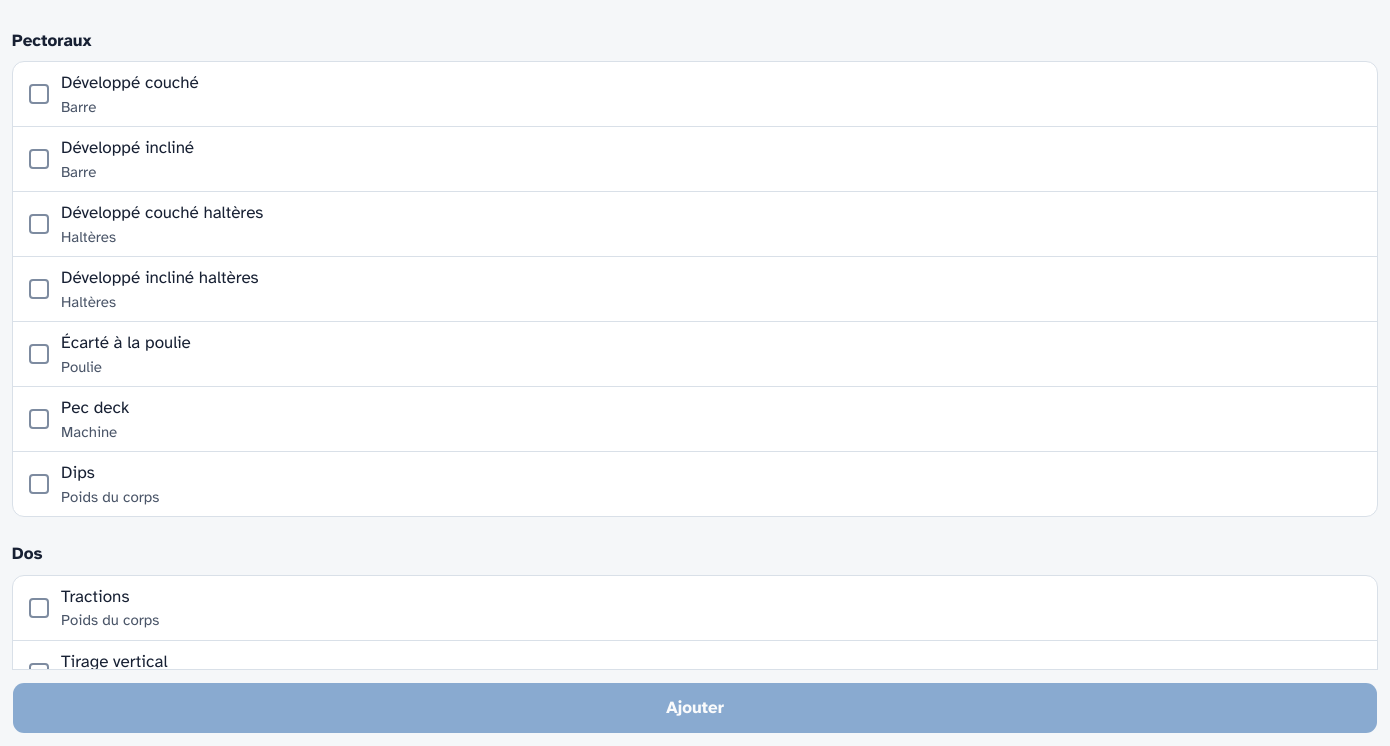
CatalogPicker (D16) › la sélection de 3 exercices envoie un seul lot avec leur matériel
Check: the button "Ajouter" is disabled, box [12,682,1378,734]
Click the checkbox labelled "Dips". click: (39, 484)
box: [29,474,49,494]
(page scrolled)
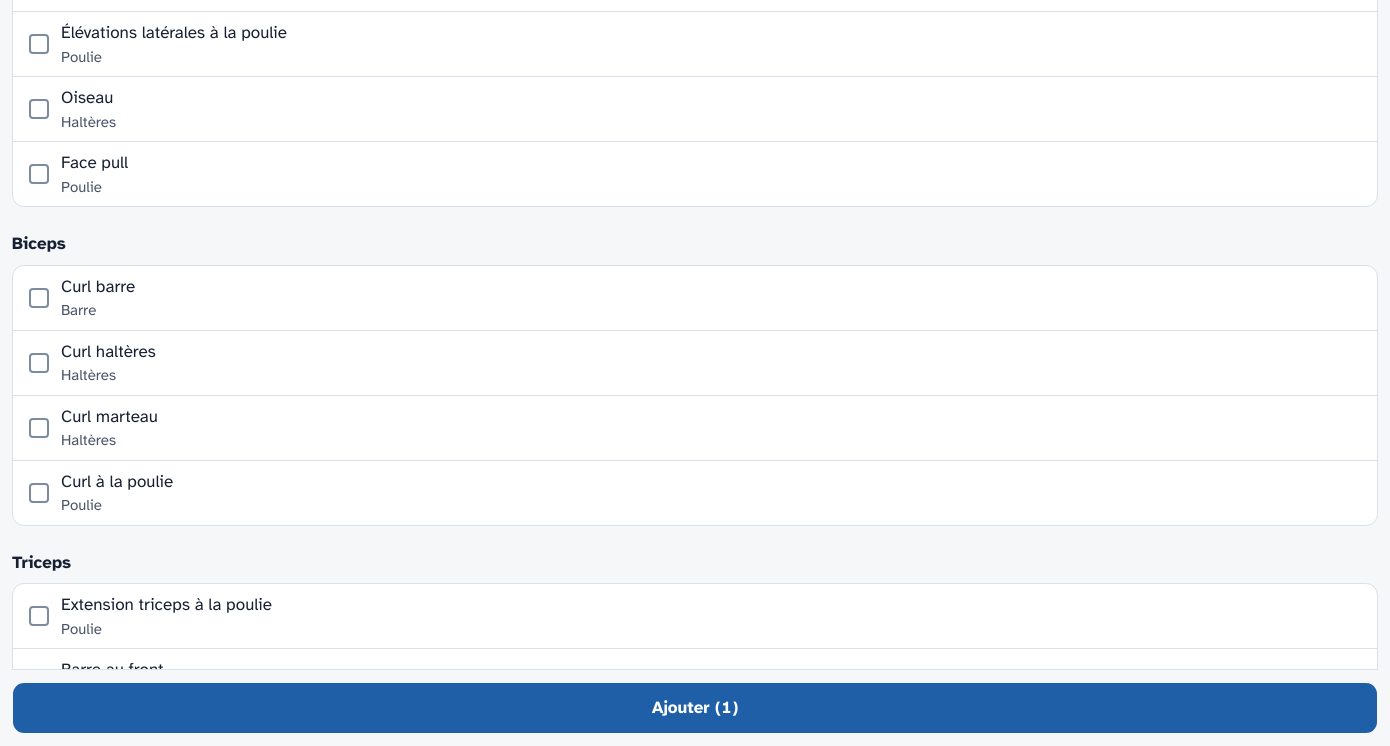
Click the checkbox labelled "Curl haltères". click: (39, 362)
box: [29,352,49,372]
(page scrolled)
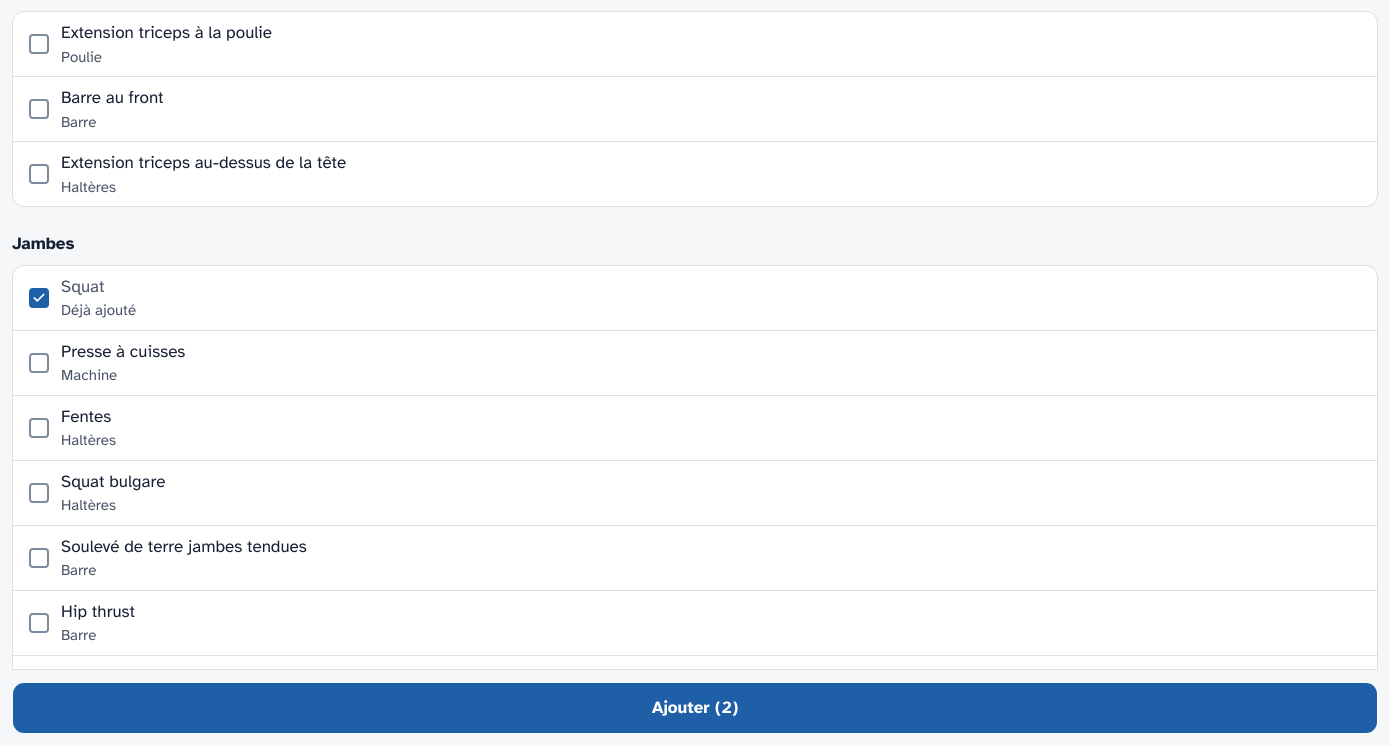
Click the checkbox labelled "Presse à cuisses". click: (39, 362)
box: [29,352,49,372]
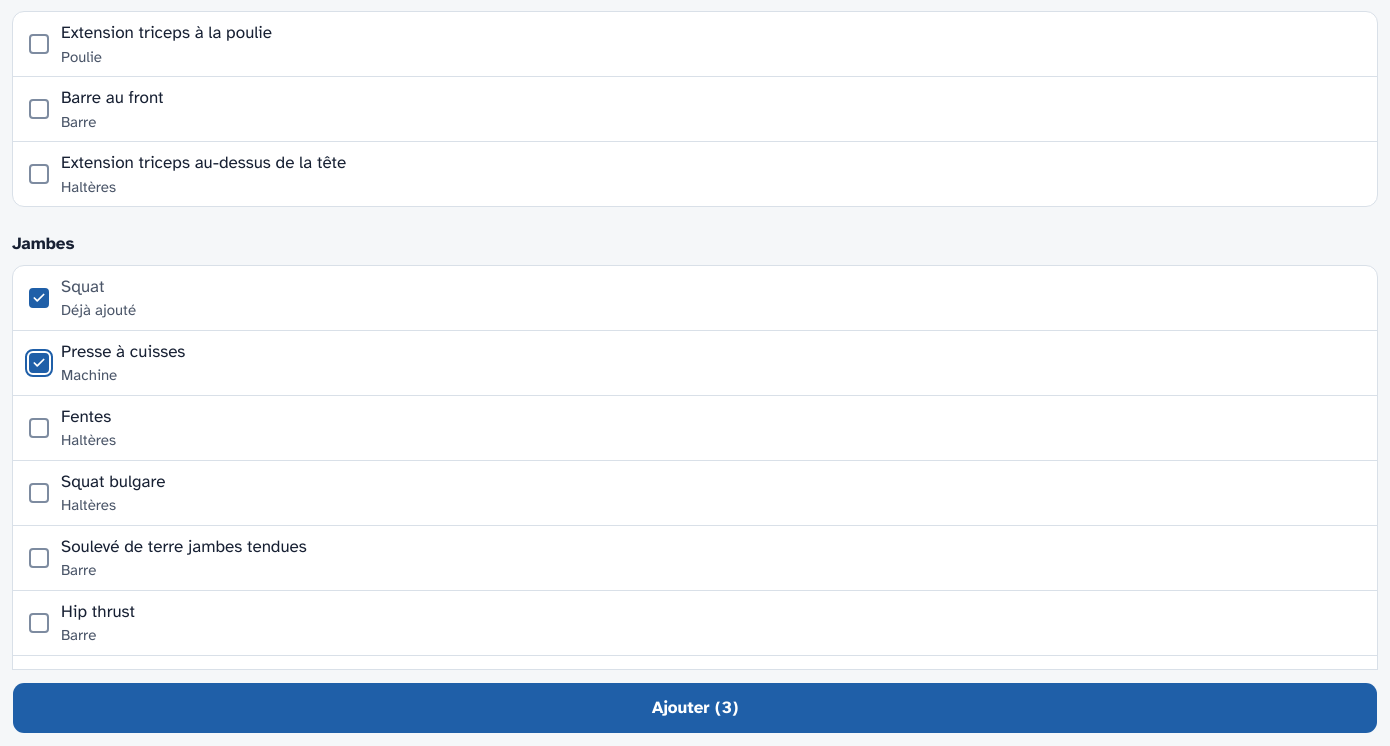
Click the button "Ajouter (3)". click: (695, 708)
box: [12,682,1378,734]
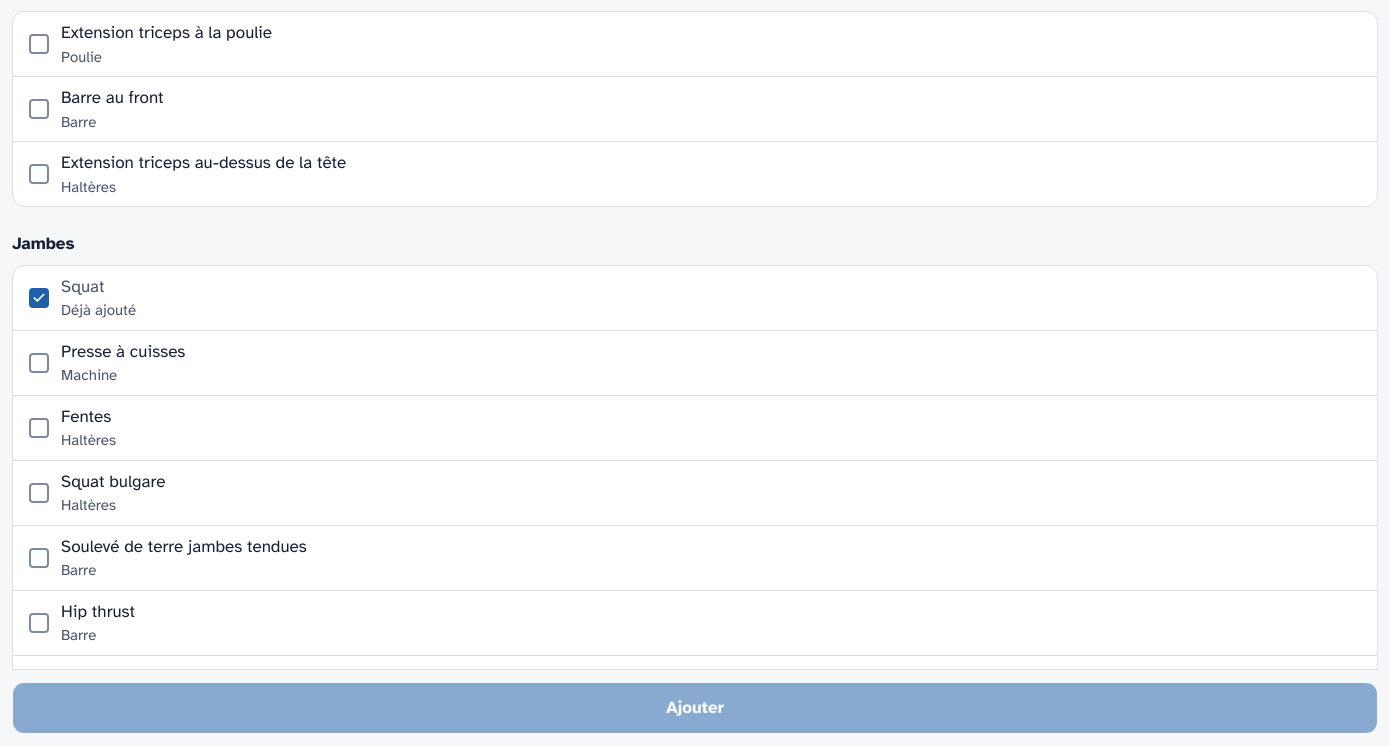
Check: the button "Ajouter" is disabled, box [12,682,1378,734]
